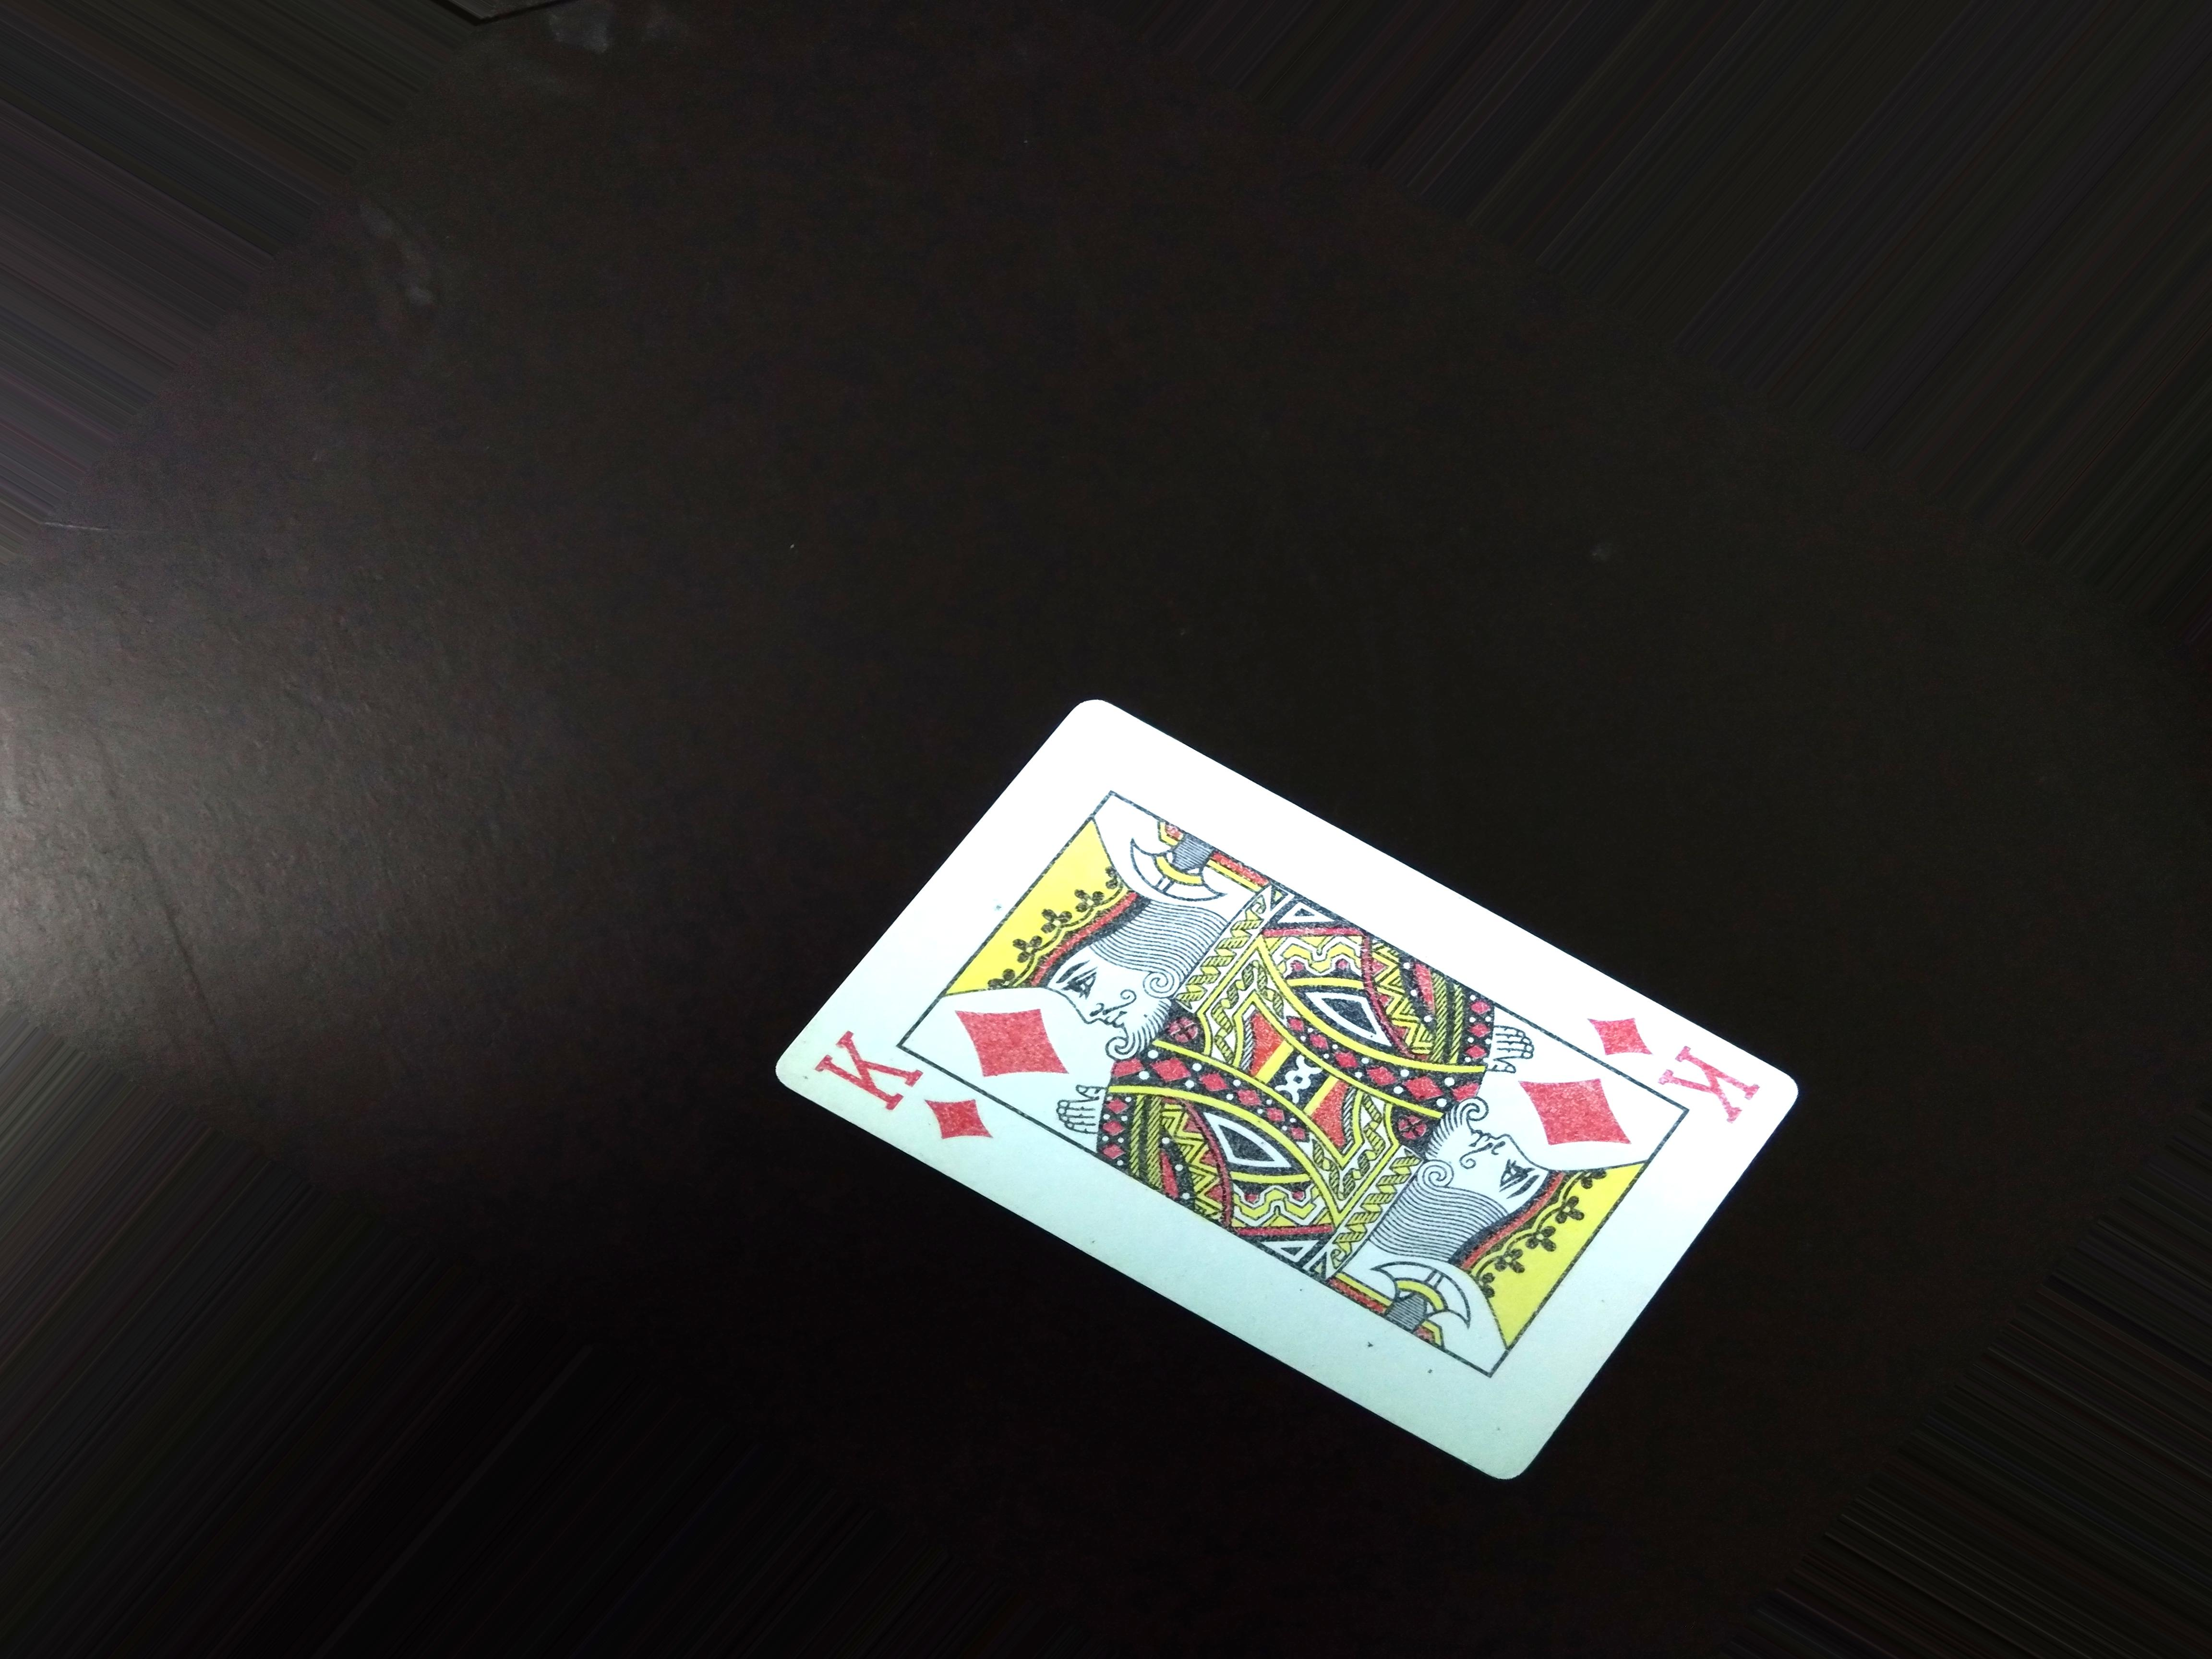KD: (813, 1033, 984, 1175)
